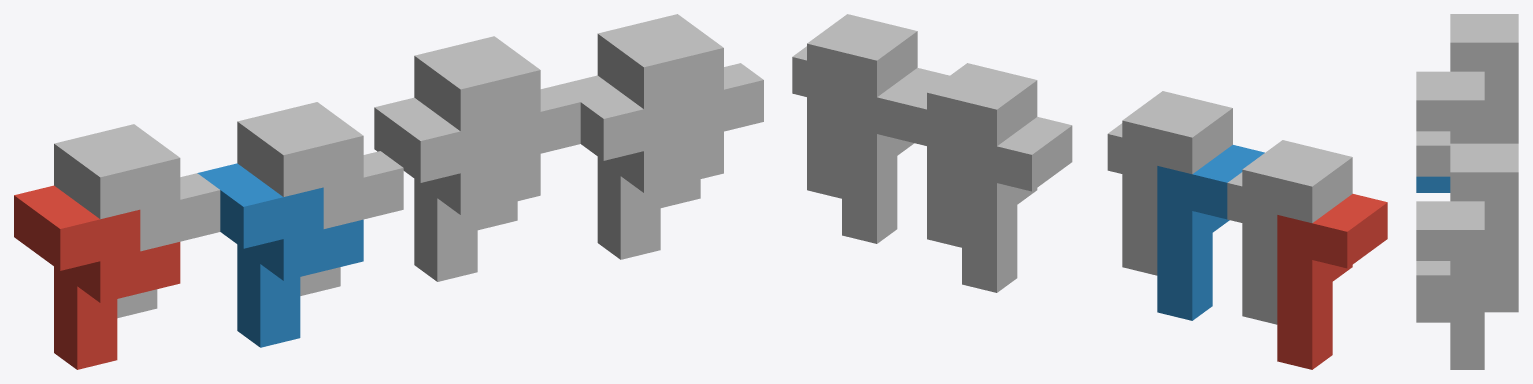
The model's file is tiling.obj.
3 renders of one model, left to right at view 1: azimuth 30°, elevation 25°; view 2: azimuth 150°, elevation 25°; view 3: azimuth 270°, elevation 25°, orthographic. The views are drawn at different scales.
Visible parts, largest first — view 1: copy_1_domain_1, copy_1_domain_5, copy_1_domain_2, copy_1_domain_6, copy_1_domain_7, copy_1_domain_4, copy_1_domain_3, copy_1_domain_8; view 2: copy_1_domain_1, copy_1_domain_5, copy_1_domain_3, copy_1_domain_4, copy_1_domain_7, copy_1_domain_8, copy_1_domain_2, copy_1_domain_6; view 3: copy_1_domain_8, copy_1_domain_7, copy_1_domain_3, copy_1_domain_4, copy_1_domain_6, copy_1_domain_2, copy_1_domain_5.
Part boxes in pixels (box(x1,y1,x2,y2)): copy_1_domain_1: box(14, 185, 180, 369); copy_1_domain_5: box(374, 97, 540, 281); copy_1_domain_2: box(197, 163, 363, 347); copy_1_domain_6: box(558, 75, 723, 259); copy_1_domain_7: box(414, 36, 580, 230); copy_1_domain_4: box(237, 102, 403, 295); copy_1_domain_3: box(54, 124, 220, 318); copy_1_domain_8: box(597, 14, 763, 207); copy_1_domain_1: box(1277, 194, 1387, 369); copy_1_domain_5: box(962, 117, 1072, 292); copy_1_domain_3: box(1227, 140, 1352, 324); copy_1_domain_4: box(1107, 91, 1232, 275); copy_1_domain_7: box(912, 63, 1037, 247); copy_1_domain_8: box(792, 14, 917, 198); copy_1_domain_2: box(1157, 145, 1264, 320); copy_1_domain_6: box(842, 68, 949, 243); copy_1_domain_8: box(1416, 201, 1484, 353); copy_1_domain_7: box(1450, 143, 1518, 295); copy_1_domain_3: box(1450, 14, 1518, 143); copy_1_domain_4: box(1416, 71, 1484, 176); copy_1_domain_6: box(1416, 306, 1484, 369); copy_1_domain_2: box(1416, 176, 1450, 192); copy_1_domain_5: box(1484, 296, 1518, 312).
Size of the model in its own units: 17 by 5 by 3.
